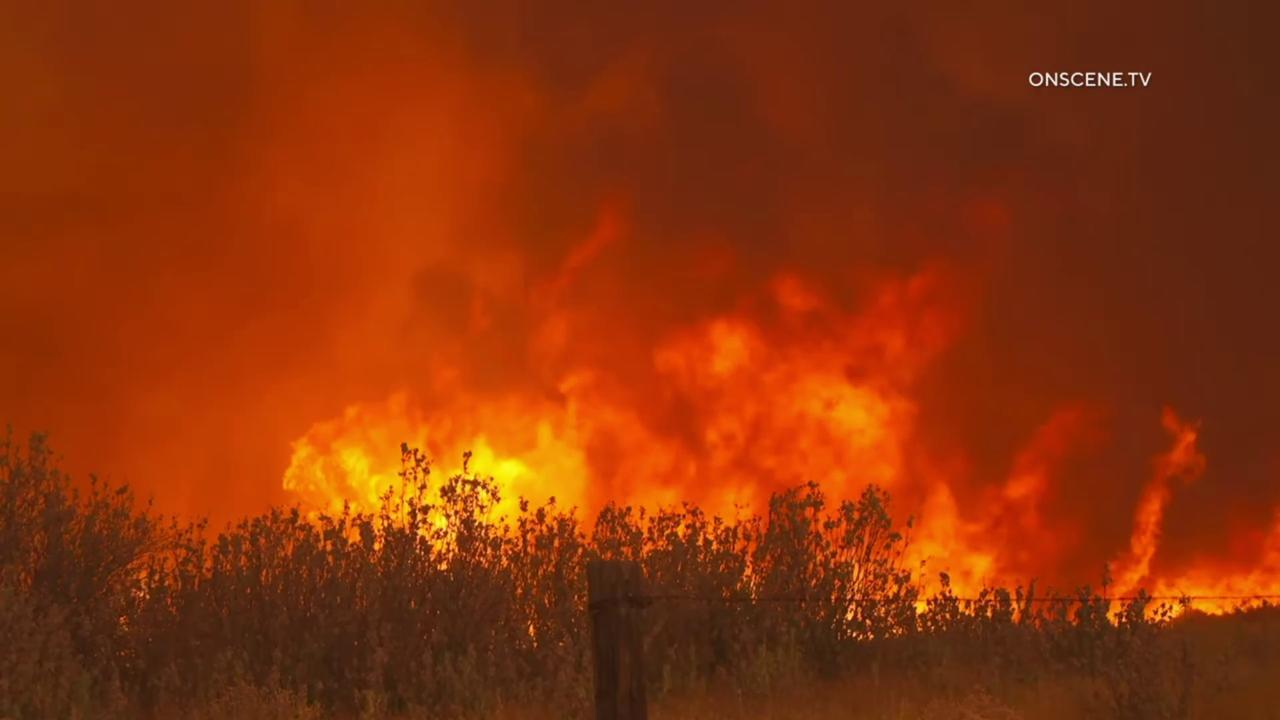fire: (279, 170, 1280, 637)
smoke: (0, 0, 1280, 641)
